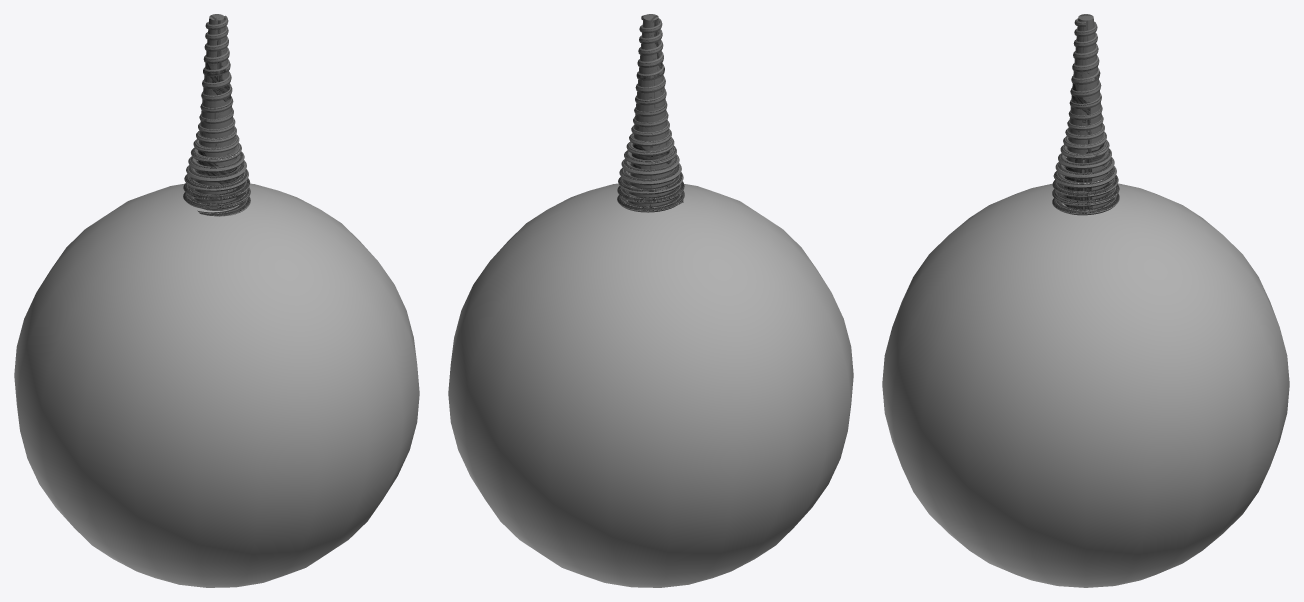
The model's file is Tower of Babel.fbx.
3 views of the same model, side by side, from view 1: azimuth 30°, elevation 25°; view 2: azimuth 150°, elevation 25°; view 3: azimuth 270°, elevation 25° (orthographic).
Visible parts, largest first — view 1: Planet_standin, Tower_of_Babel; view 2: Planet_standin, Tower_of_Babel; view 3: Planet_standin, Tower_of_Babel.
Part boxes in pixels (x1,y1,x2,y2): Planet_standin: (14,183,419,587); Tower_of_Babel: (183,14,250,216); Planet_standin: (448,183,853,587); Tower_of_Babel: (617,14,684,212); Planet_standin: (882,183,1289,587); Tower_of_Babel: (1052,14,1119,215).
Size of the model in its own units: 17.22 by 25.77 by 17.22.
